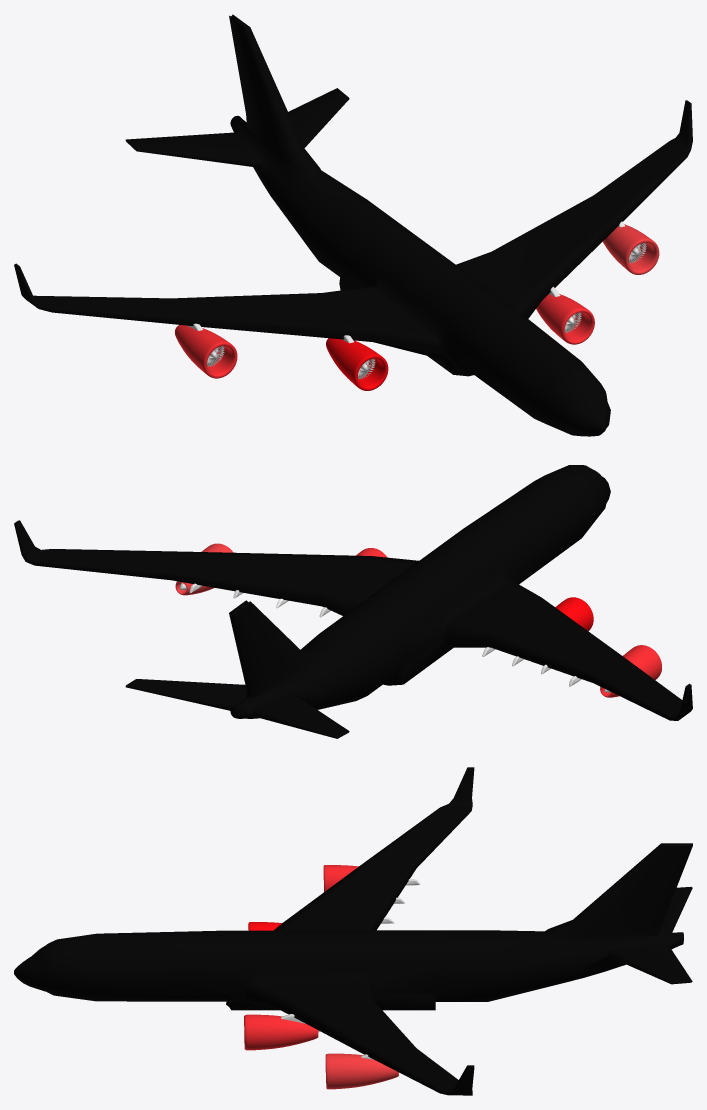
File: Boeing A320.glb
3 renders of one model, top to bottom at view 1: azimuth 30°, elevation 25°; view 2: azimuth 150°, elevation 25°; view 3: azimuth 270°, elevation 25°, orthographic. The views are drawn at different scales.
Visible parts, largest first — view 1: Cylinder, Circle.007, Circle.004, Circle, Circle.003; view 2: Cylinder, Circle.007, Circle.004, Circle.003; view 3: Cylinder, Circle, Circle.003, Circle.007.
Boxes of the visible parts, bbox=[...] form: Cylinder: bbox=[14, 14, 692, 436]; Circle.007: bbox=[175, 325, 237, 378]; Circle.004: bbox=[326, 338, 388, 390]; Circle: bbox=[536, 294, 594, 344]; Circle.003: bbox=[602, 224, 659, 274]; Cylinder: bbox=[14, 465, 692, 738]; Circle.007: bbox=[600, 645, 661, 697]; Circle.004: bbox=[555, 597, 593, 631]; Circle.003: bbox=[175, 543, 233, 595]; Cylinder: bbox=[14, 767, 692, 1095]; Circle: bbox=[244, 1014, 318, 1050]; Circle.003: bbox=[325, 1053, 398, 1089]; Circle.007: bbox=[323, 865, 358, 891].
Size of the model in its own units: 9.1 by 2.26 by 8.72.
